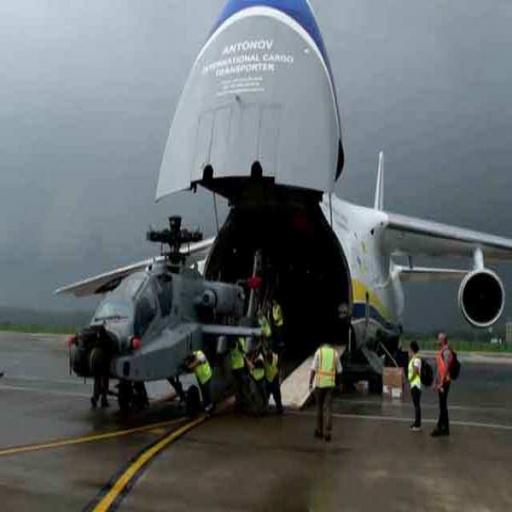helicopter: (69, 217, 273, 418)
